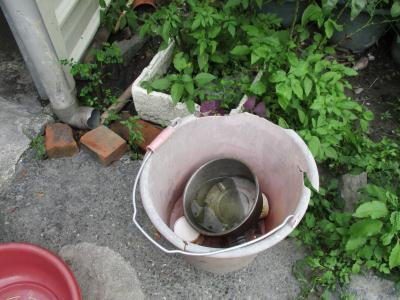bowl: (177, 154, 268, 239)
bucket: (134, 107, 322, 277)
styrofoam: (131, 37, 266, 128)
